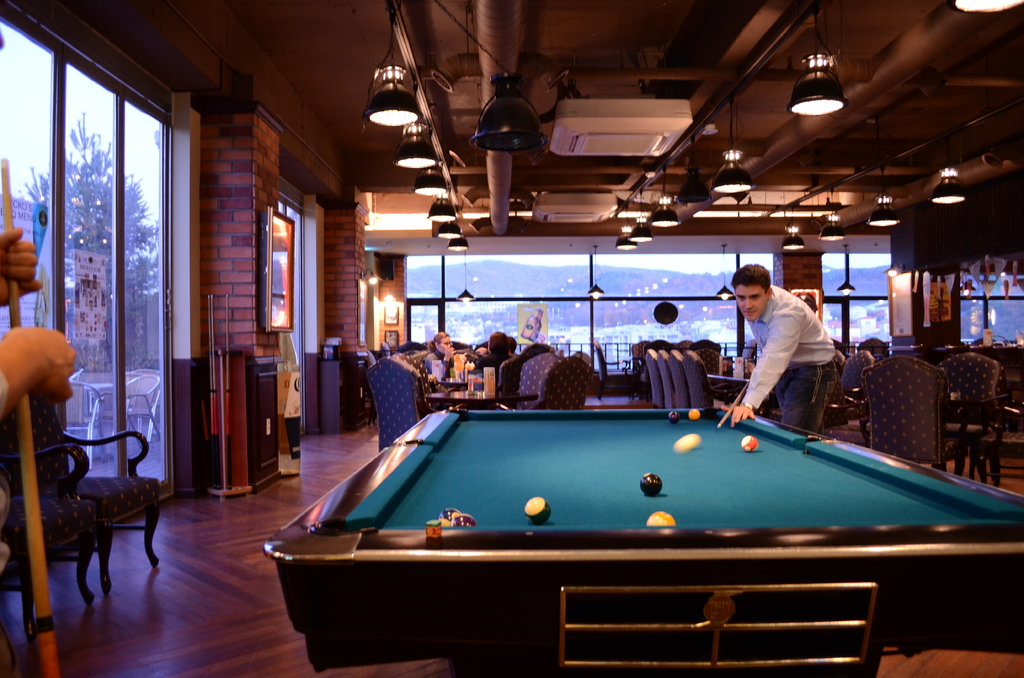Ball: (527, 497, 553, 524), (646, 508, 675, 528), (671, 435, 703, 452), (641, 474, 662, 497), (454, 513, 479, 529), (740, 435, 758, 453), (441, 506, 458, 519), (668, 411, 681, 424), (689, 408, 702, 421)
